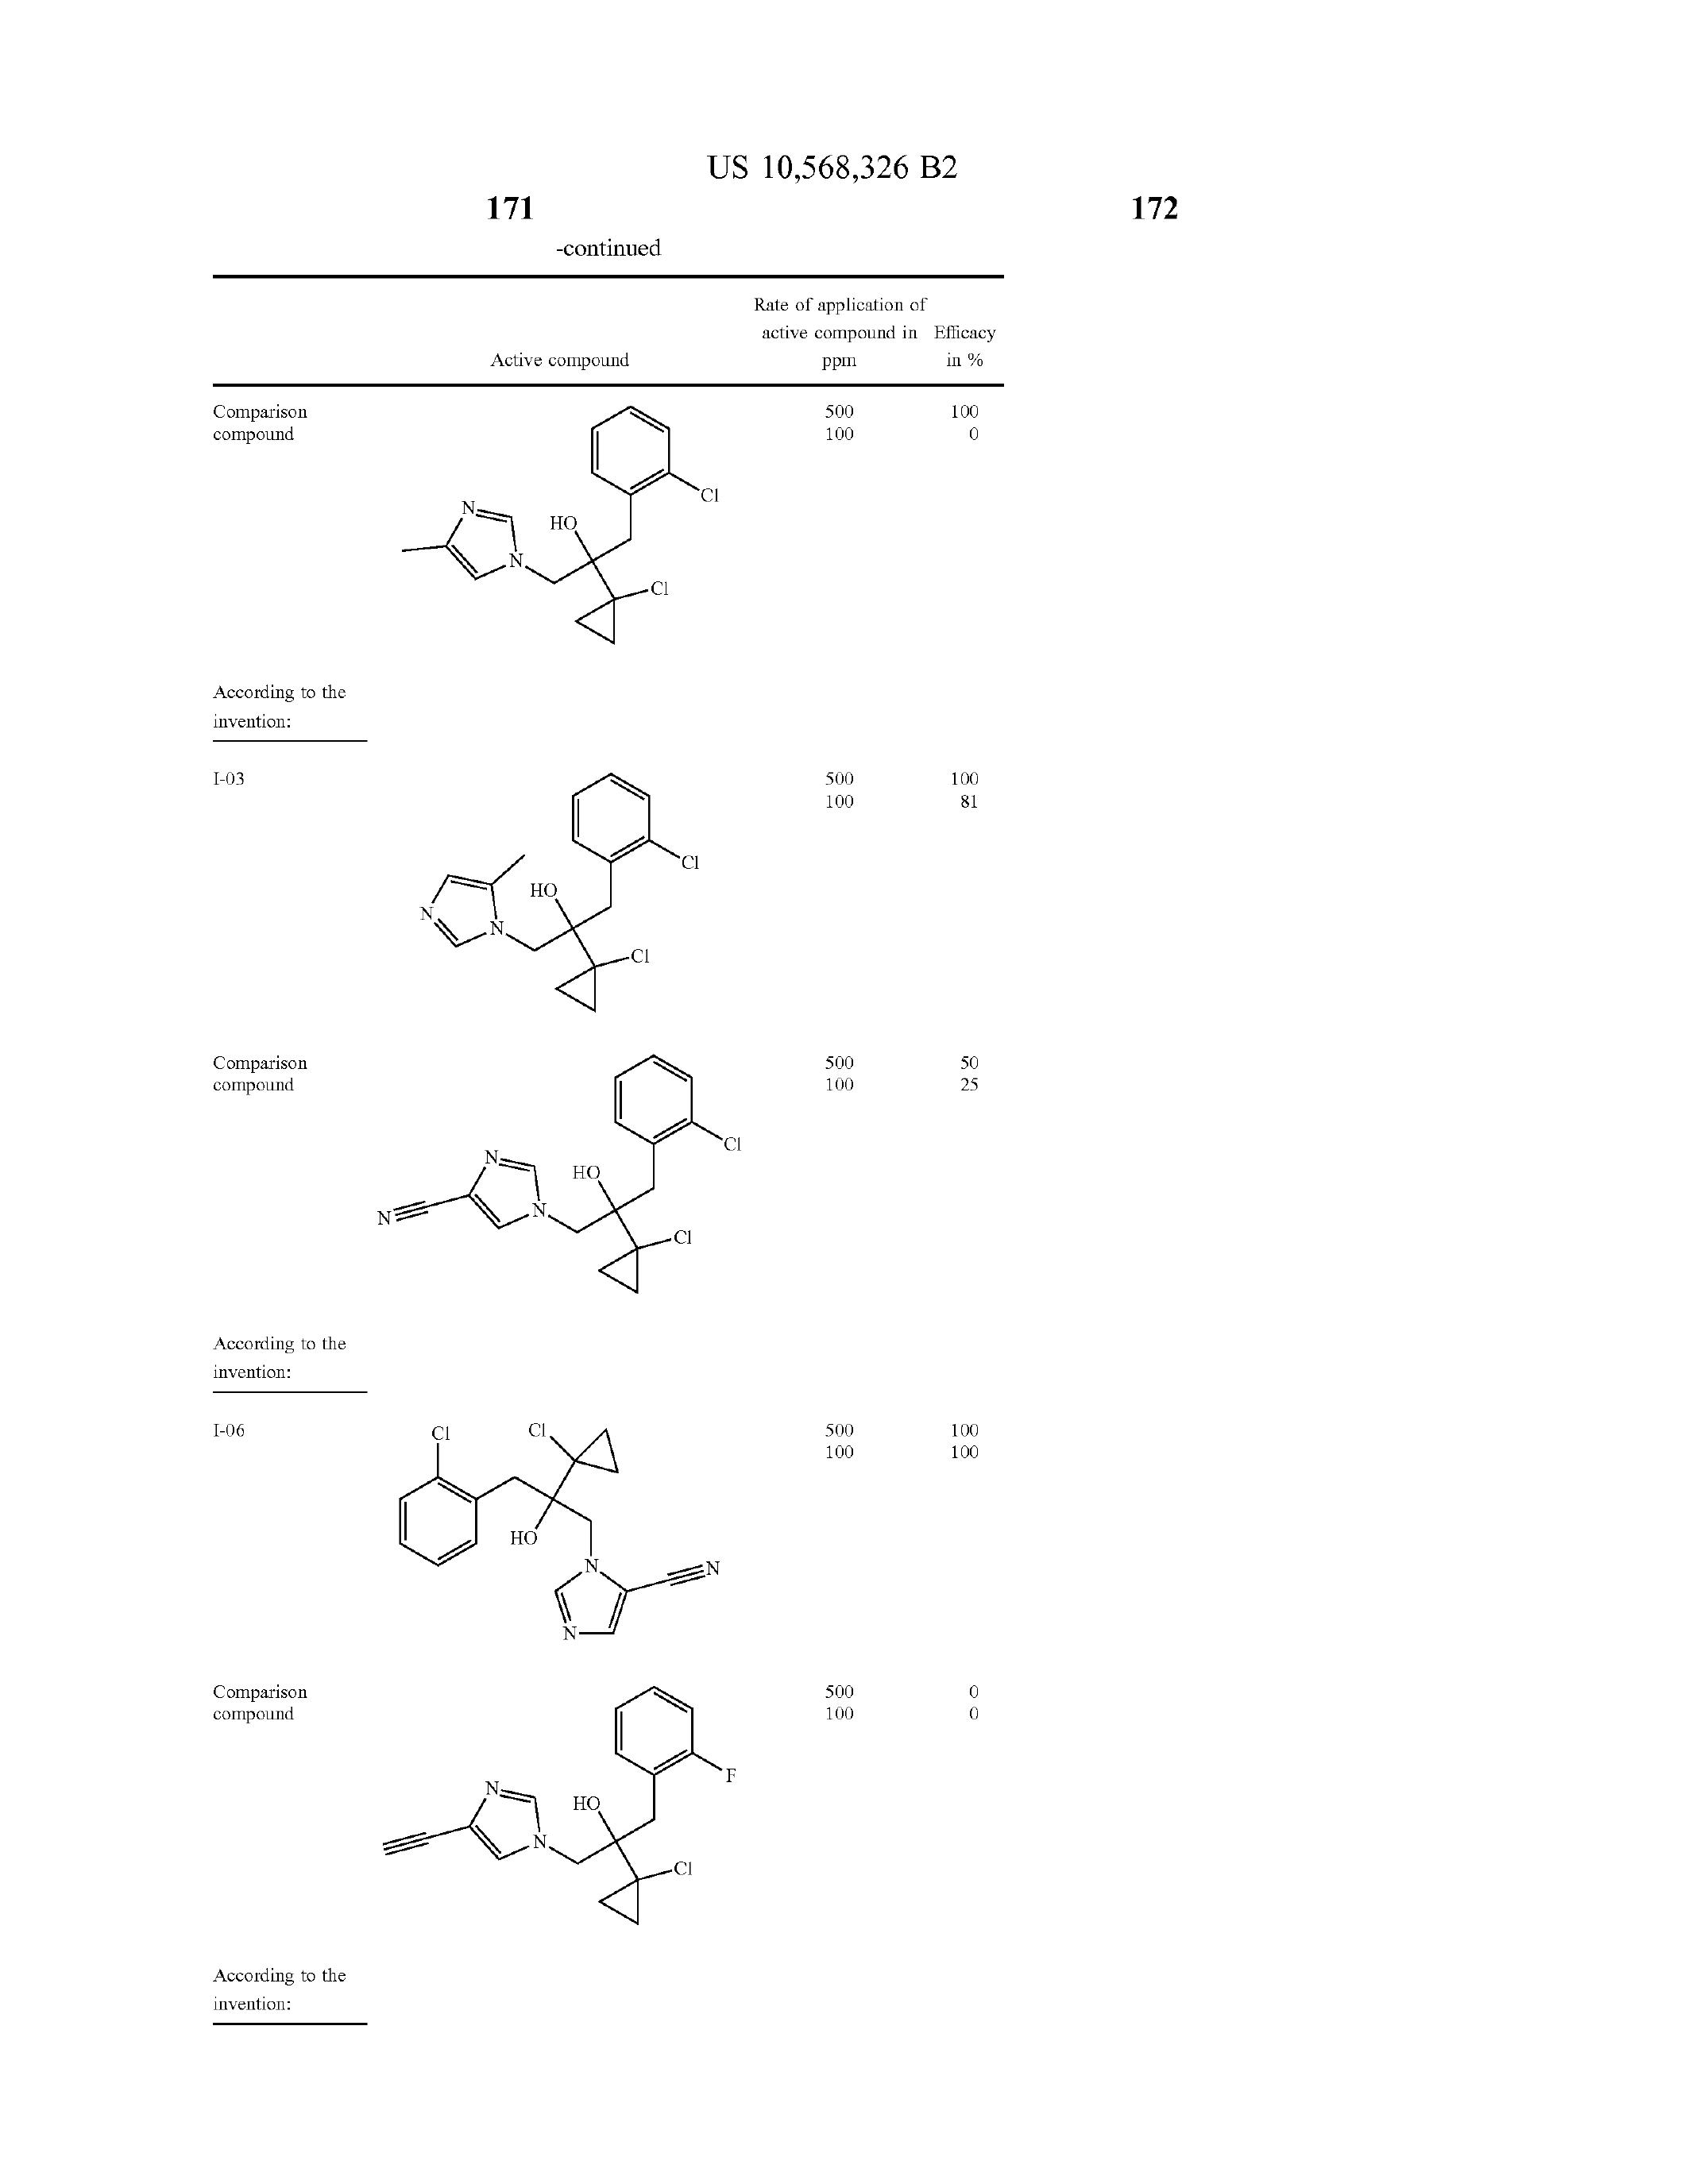relevant-structures: (372, 1677, 754, 1984), (388, 386, 757, 684), (390, 725, 755, 1023), (383, 1367, 757, 1645), (381, 1042, 766, 1308)
